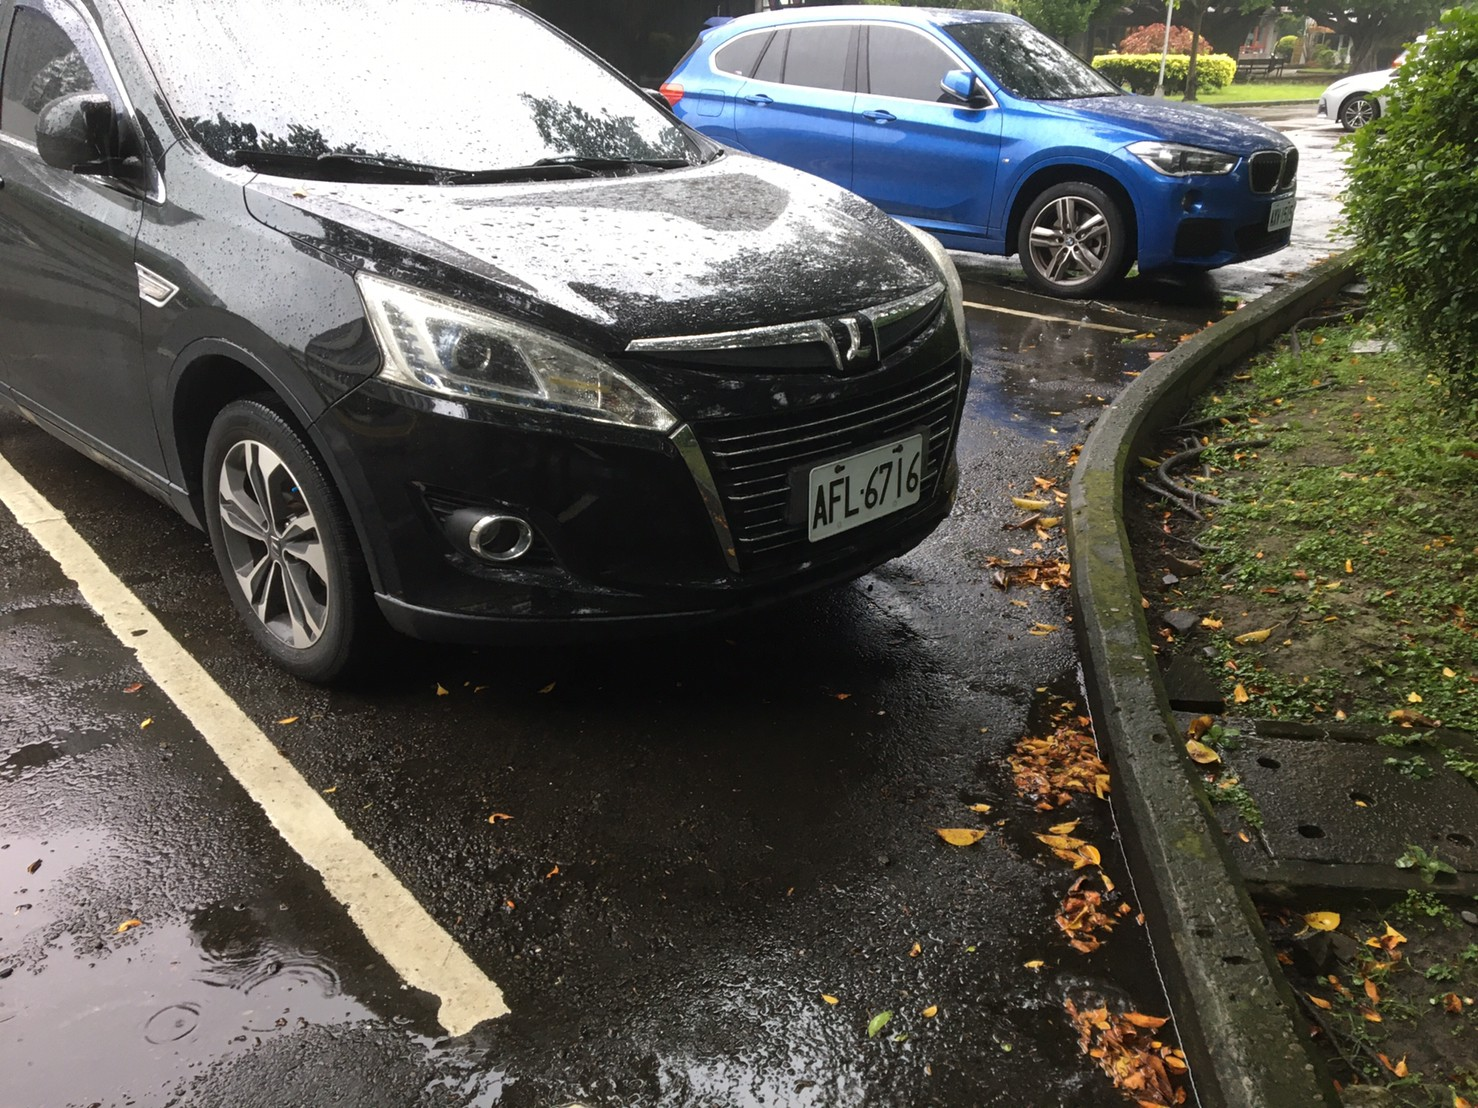LP: (811, 438, 925, 538), (1270, 194, 1297, 233)
